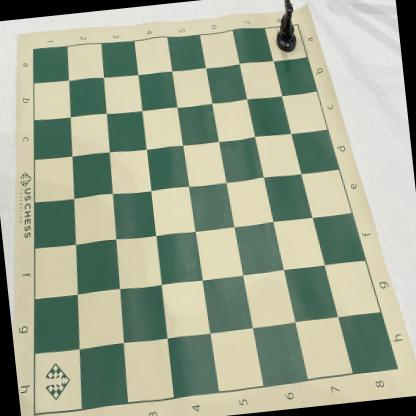knight: (270, 0, 299, 55)
